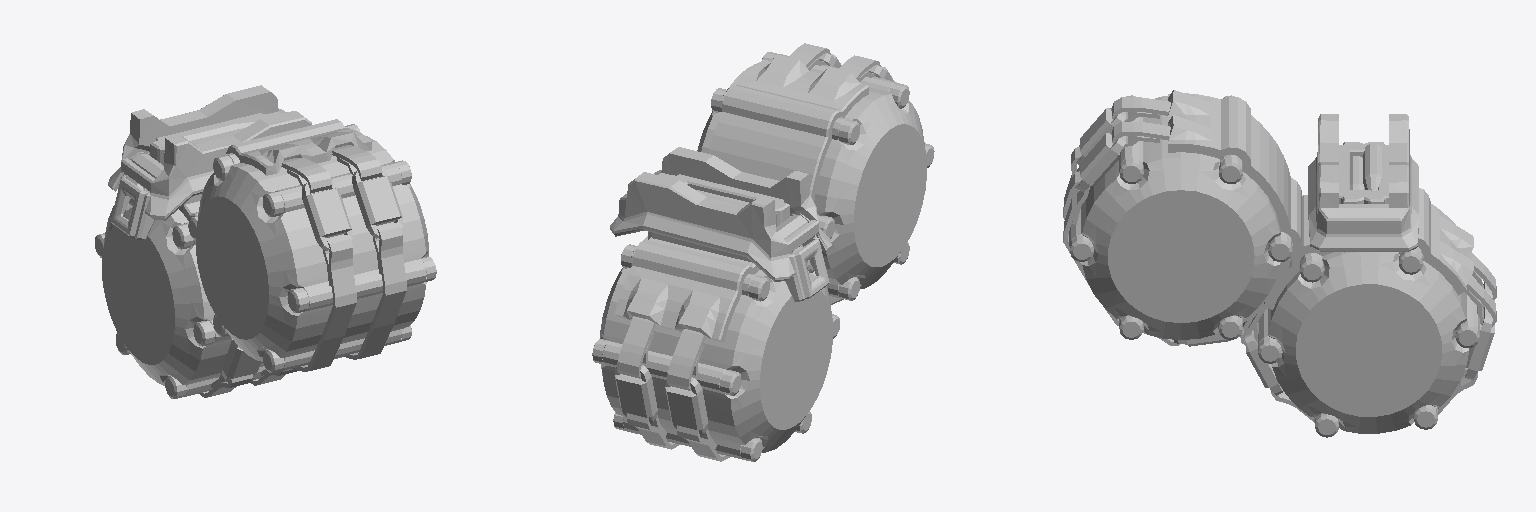
The model's file is AssaultRifles_Vladof_Mag_2.obj.
3 views of the same model, side by side, from view 1: azimuth 30°, elevation 25°; view 2: azimuth 150°, elevation 25°; view 3: azimuth 270°, elevation 25° (orthographic).
Visible parts, largest first — view 1: SK_AR_VLA.097, SK_AR_VLA.096, SK_AR_VLA.095, SK_AR_VLA.146, SK_AR_VLA.120, SK_AR_VLA.126, SK_AR_VLA.119, SK_AR_VLA.117, SK_AR_VLA.101, SK_AR_VLA.121, SK_AR_VLA.127, SK_AR_VLA.099 (+3 smaller); view 2: SK_AR_VLA.096, SK_AR_VLA.097, SK_AR_VLA.095, SK_AR_VLA.146, SK_AR_VLA.145, SK_AR_VLA.101, SK_AR_VLA.115, SK_AR_VLA.098, SK_AR_VLA.102, SK_AR_VLA.131, SK_AR_VLA.125, SK_AR_VLA.129 (+3 smaller); view 3: SK_AR_VLA.097, SK_AR_VLA.096, SK_AR_VLA.095, SK_AR_VLA.146, SK_AR_VLA.145, SK_AR_VLA.115, SK_AR_VLA.119, SK_AR_VLA.121, SK_AR_VLA.127, SK_AR_VLA.126, SK_AR_VLA.102, SK_AR_VLA.117 (+6 smaller).
Boxes of the visible parts, <box> form: SK_AR_VLA.097: <box>196,127,428,370</box>; SK_AR_VLA.096: <box>102,187,265,396</box>; SK_AR_VLA.095: <box>108,85,311,220</box>; SK_AR_VLA.146: <box>226,119,371,175</box>; SK_AR_VLA.120: <box>281,235,356,371</box>; SK_AR_VLA.126: <box>334,222,406,359</box>; SK_AR_VLA.119: <box>352,167,402,238</box>; SK_AR_VLA.117: <box>302,180,352,250</box>; SK_AR_VLA.101: <box>111,152,160,240</box>; SK_AR_VLA.121: <box>281,158,332,193</box>; SK_AR_VLA.127: <box>332,145,382,180</box>; SK_AR_VLA.099: <box>222,339,260,382</box>; SK_AR_VLA.096: <box>600,236,832,459</box>; SK_AR_VLA.097: <box>697,54,926,298</box>; SK_AR_VLA.095: <box>610,147,831,281</box>; SK_AR_VLA.146: <box>708,55,868,216</box>; SK_AR_VLA.145: <box>615,237,802,341</box>; SK_AR_VLA.101: <box>779,213,829,301</box>; SK_AR_VLA.115: <box>648,174,789,271</box>; SK_AR_VLA.098: <box>665,377,708,436</box>; SK_AR_VLA.102: <box>615,365,657,423</box>; SK_AR_VLA.131: <box>617,316,655,378</box>; SK_AR_VLA.125: <box>667,329,705,390</box>; SK_AR_VLA.129: <box>627,413,680,449</box>; SK_AR_VLA.097: <box>1069,96,1292,339</box>; SK_AR_VLA.096: <box>1258,247,1479,433</box>; SK_AR_VLA.095: <box>1308,114,1418,251</box>; SK_AR_VLA.146: <box>1168,90,1301,303</box>; SK_AR_VLA.145: <box>1264,188,1473,309</box>; SK_AR_VLA.115: <box>1339,142,1388,252</box>; SK_AR_VLA.119: <box>1075,132,1125,191</box>; SK_AR_VLA.121: <box>1112,97,1170,121</box>; SK_AR_VLA.127: <box>1112,122,1170,148</box>; SK_AR_VLA.126: <box>1063,171,1179,345</box>; SK_AR_VLA.102: <box>1465,307,1494,379</box>; SK_AR_VLA.117: <box>1076,108,1125,165</box>.
Size of the model in its own units: 13.43 by 20.74 by 26.78.